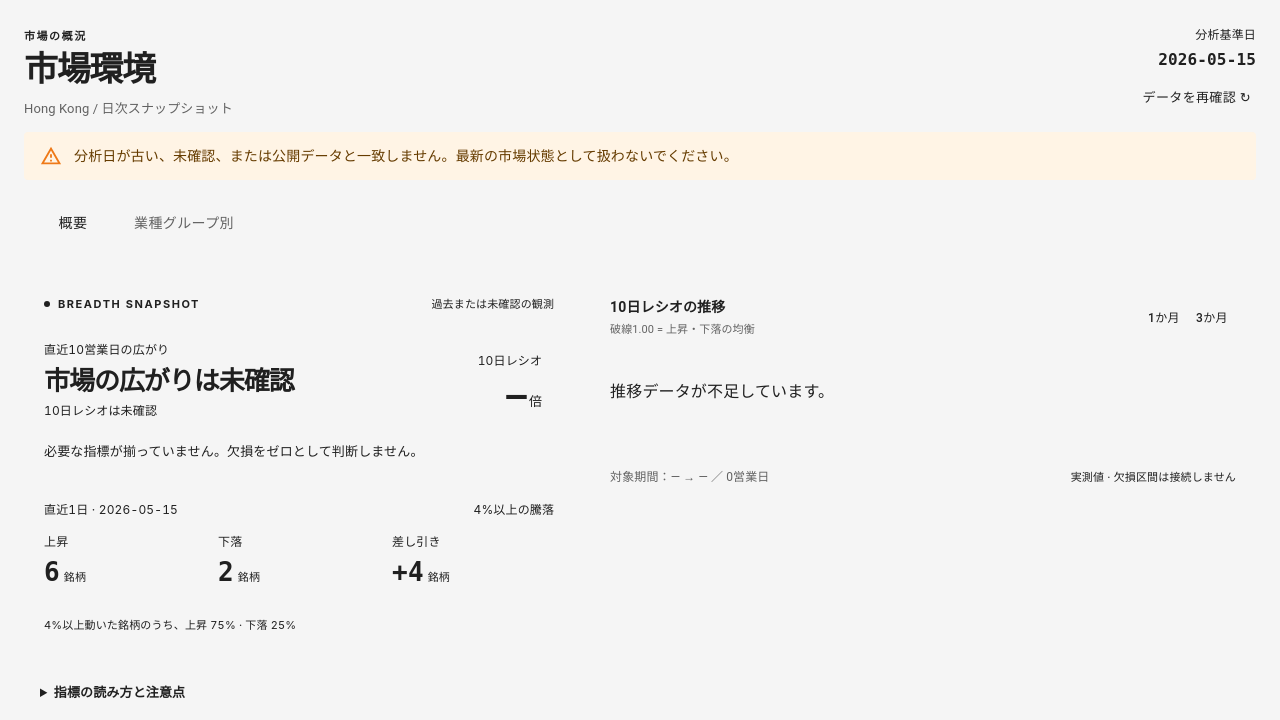
Test case: StaticBreadthPage › shows an info message inside the By Group tab when attribution is unavailable
Expected: the heading "市場環境" is shown, [24,49,155,89]
Click the tab "業種グループ別" at (184, 224), box [118,200,250,248]
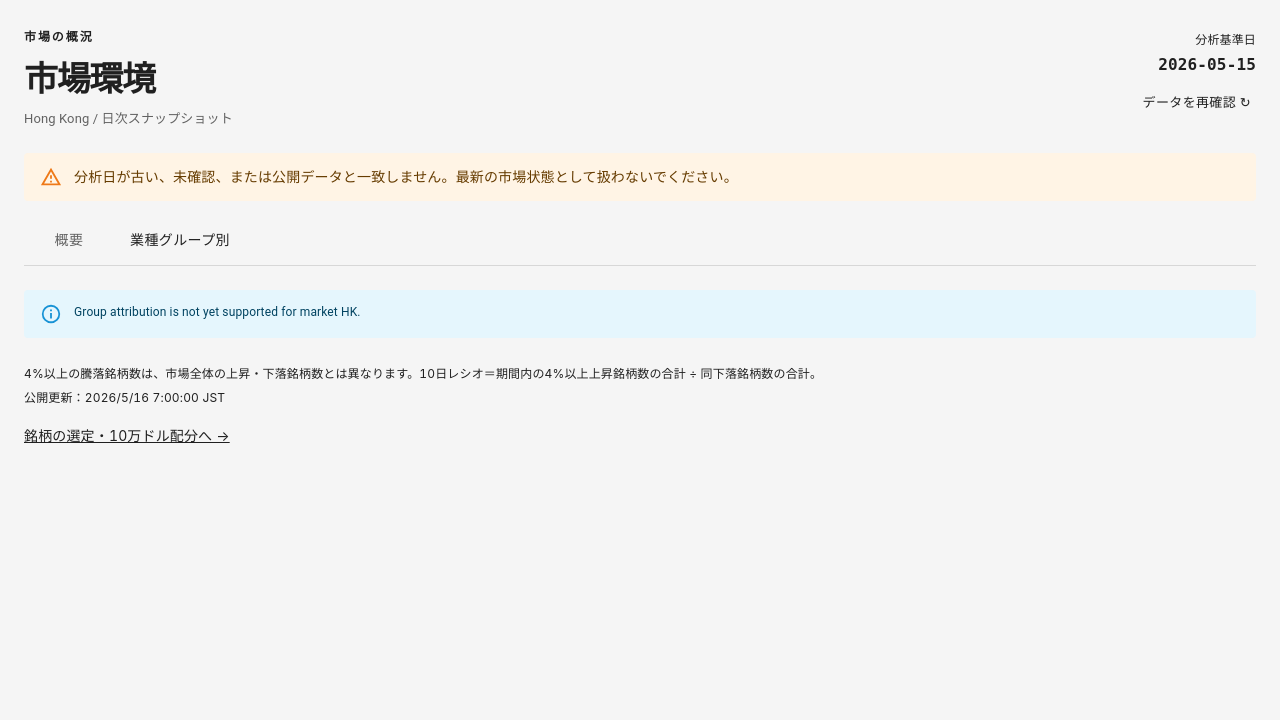
Result: the text "Group attribution is not yet supported for market HK." is shown at [74,304,361,318]
